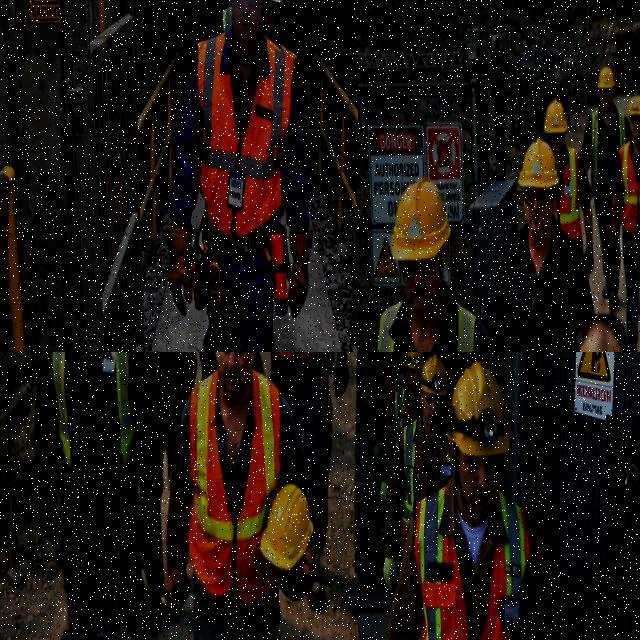Vest: (188, 371, 280, 603), (414, 489, 472, 639), (197, 34, 238, 235), (400, 418, 450, 552), (553, 148, 581, 241), (51, 352, 72, 470), (619, 142, 639, 236), (382, 361, 406, 430), (360, 353, 382, 418), (393, 387, 410, 464), (376, 303, 401, 351), (591, 111, 599, 186), (275, 352, 324, 361)
Worker: (167, 0, 312, 351), (386, 362, 545, 639), (166, 352, 316, 639), (35, 352, 162, 639), (486, 139, 593, 351), (365, 180, 494, 351), (382, 355, 451, 587), (271, 352, 333, 610), (581, 67, 630, 309), (544, 100, 593, 274), (610, 95, 639, 351), (379, 352, 425, 506), (147, 352, 196, 470), (358, 352, 383, 514), (372, 352, 407, 464), (577, 315, 627, 351)
helmet: (441, 361, 509, 456), (392, 180, 450, 261), (260, 483, 313, 571), (518, 139, 558, 189), (418, 354, 448, 396), (544, 99, 567, 134), (597, 67, 615, 90), (405, 352, 425, 370), (628, 95, 639, 117), (267, 0, 283, 7), (397, 352, 406, 354)
